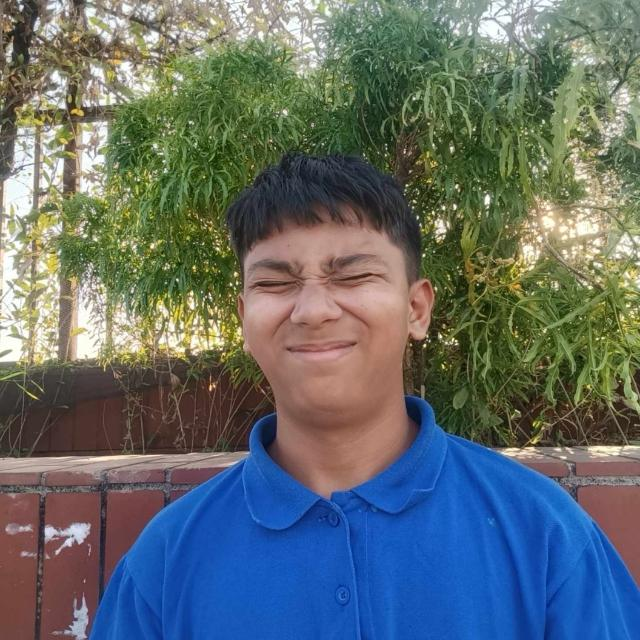Disgust: (220, 155, 442, 433)
